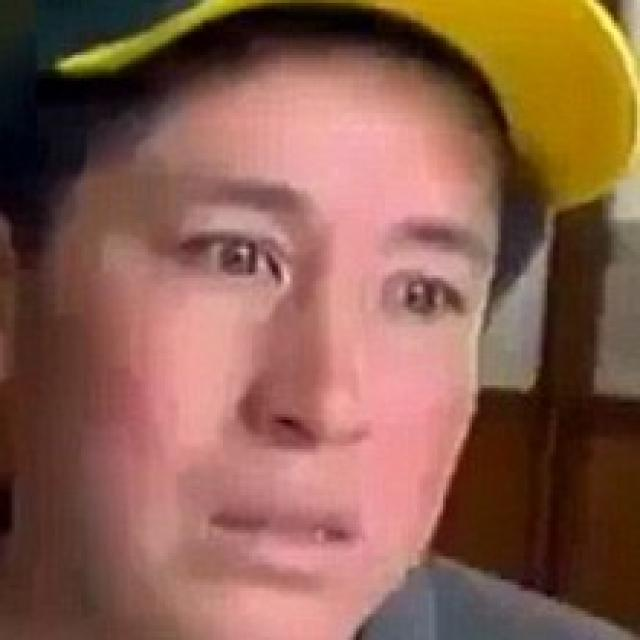Depress: (19, 55, 510, 637)
